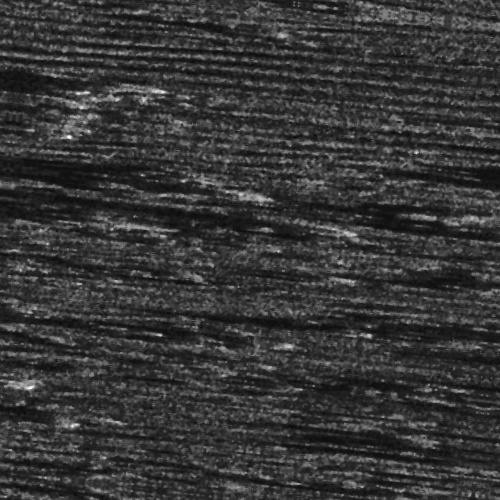object: (88, 226, 181, 245), (246, 210, 371, 223), (0, 199, 94, 210), (83, 479, 176, 488), (201, 188, 264, 199), (94, 177, 187, 184), (336, 312, 389, 321), (473, 477, 500, 490), (479, 420, 500, 433), (461, 433, 500, 440), (406, 414, 459, 419), (81, 429, 134, 434), (249, 335, 302, 340), (81, 99, 134, 102), (11, 119, 52, 122), (1, 404, 42, 407)
shadow: (0, 210, 309, 223), (0, 188, 232, 199), (0, 226, 134, 245), (335, 420, 500, 433), (136, 312, 362, 321), (415, 143, 500, 164), (333, 202, 500, 211), (282, 433, 493, 440), (0, 335, 276, 340), (0, 479, 129, 488), (411, 477, 500, 490), (4, 177, 140, 184), (364, 300, 500, 305), (303, 414, 432, 419), (0, 429, 107, 434), (0, 99, 107, 102), (442, 406, 500, 411), (472, 135, 500, 140)
